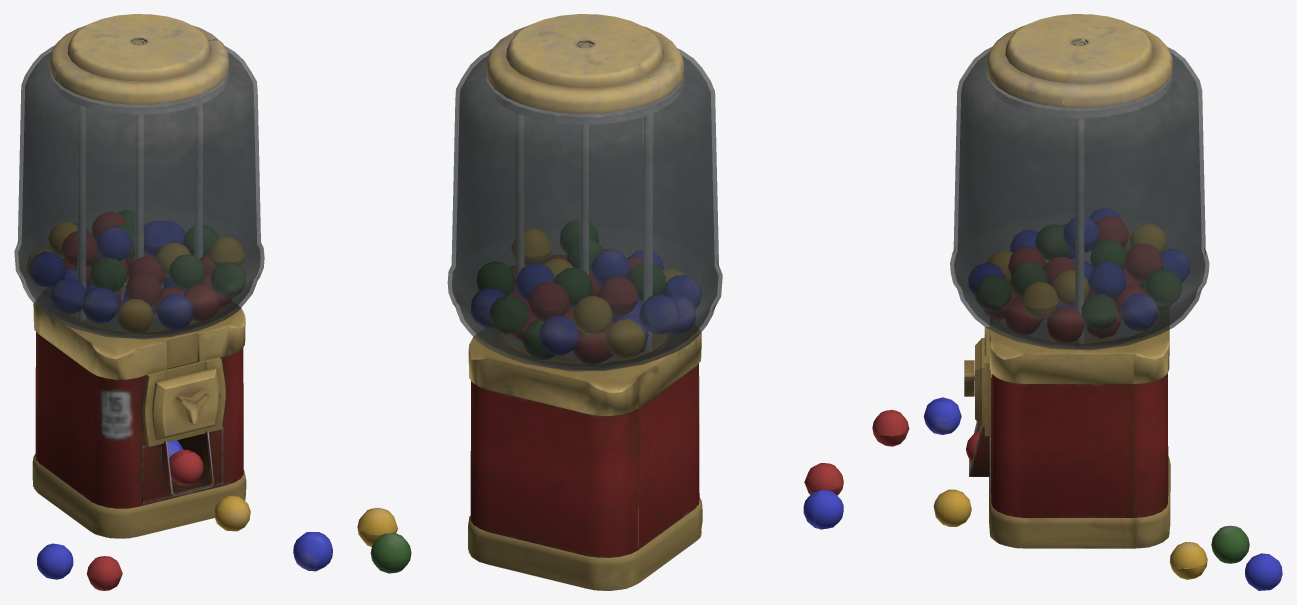
The model's file is old-gumball-machine-3d77e6.glb.
3 renders of one model, left to right at view 1: azimuth 30°, elevation 25°; view 2: azimuth 150°, elevation 25°; view 3: azimuth 270°, elevation 25°, orthographic. The views are drawn at different scales.
Visible parts, largest first — view 1: PropMesh; view 2: PropMesh; view 3: PropMesh.
Boxes of the visible parts, x1,y1,x2,y2 form: PropMesh: (14, 14, 264, 590); PropMesh: (293, 14, 843, 590); PropMesh: (872, 14, 1282, 590).
Bounding box in the file's own units: 0.3941 × 0.5 × 0.397.
Materials: 3 (3 with a texture image).
